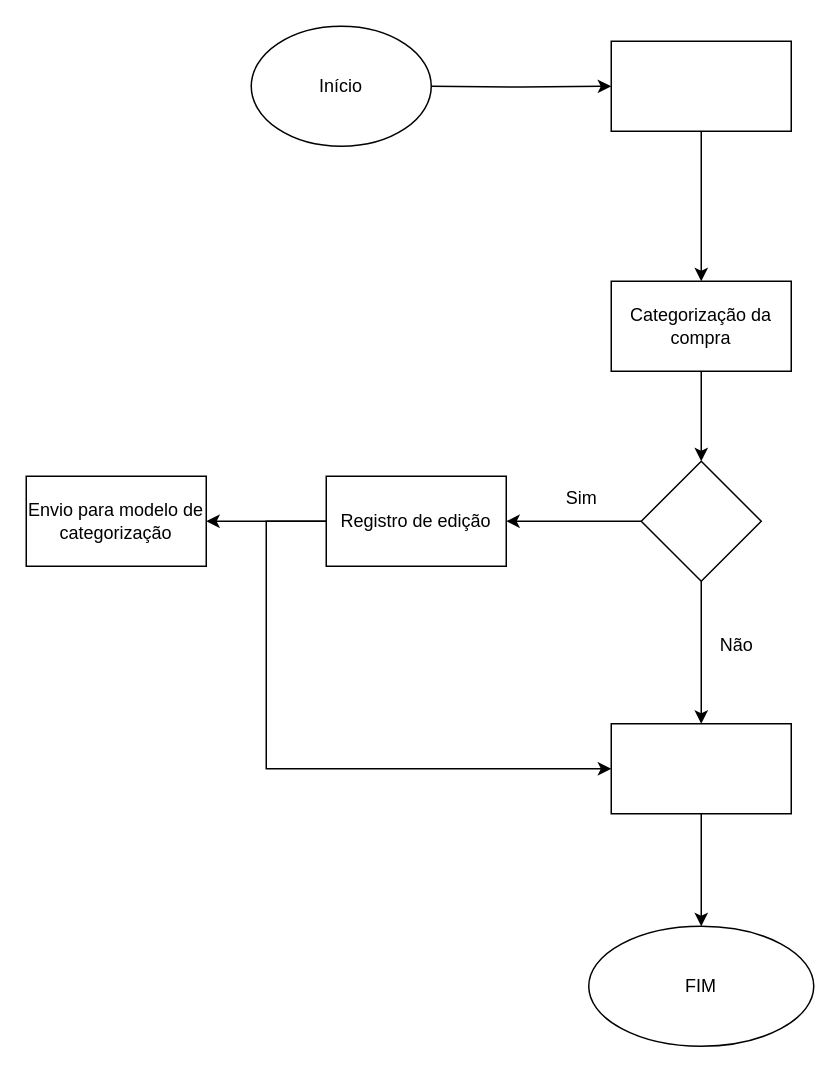
Some shapes in this 840 by 1073 pixel diagram are drawn without their labels. The shapes that lost their labels are listed below. From the top down, each one's centre as x and y in pixels, then its label:
At (x=700, y=85): "Usuário cria uma ordem de compra".
At (x=700, y=520): "Edição de categoria".
At (x=700, y=768): "Efetivação da Compra".
